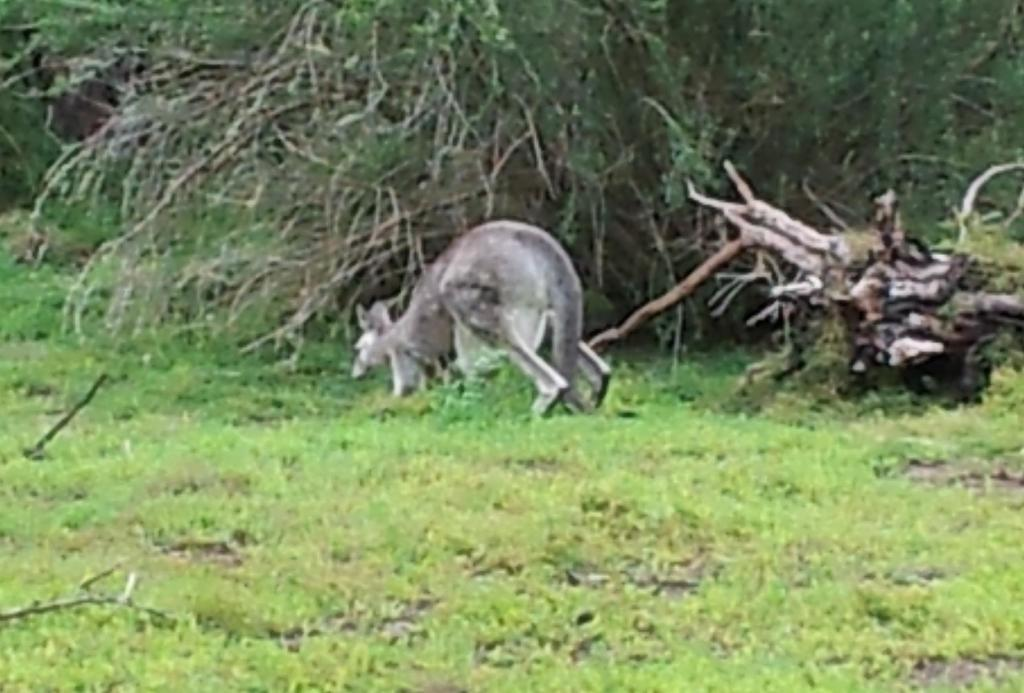kangaroo: (350, 222, 578, 419)
